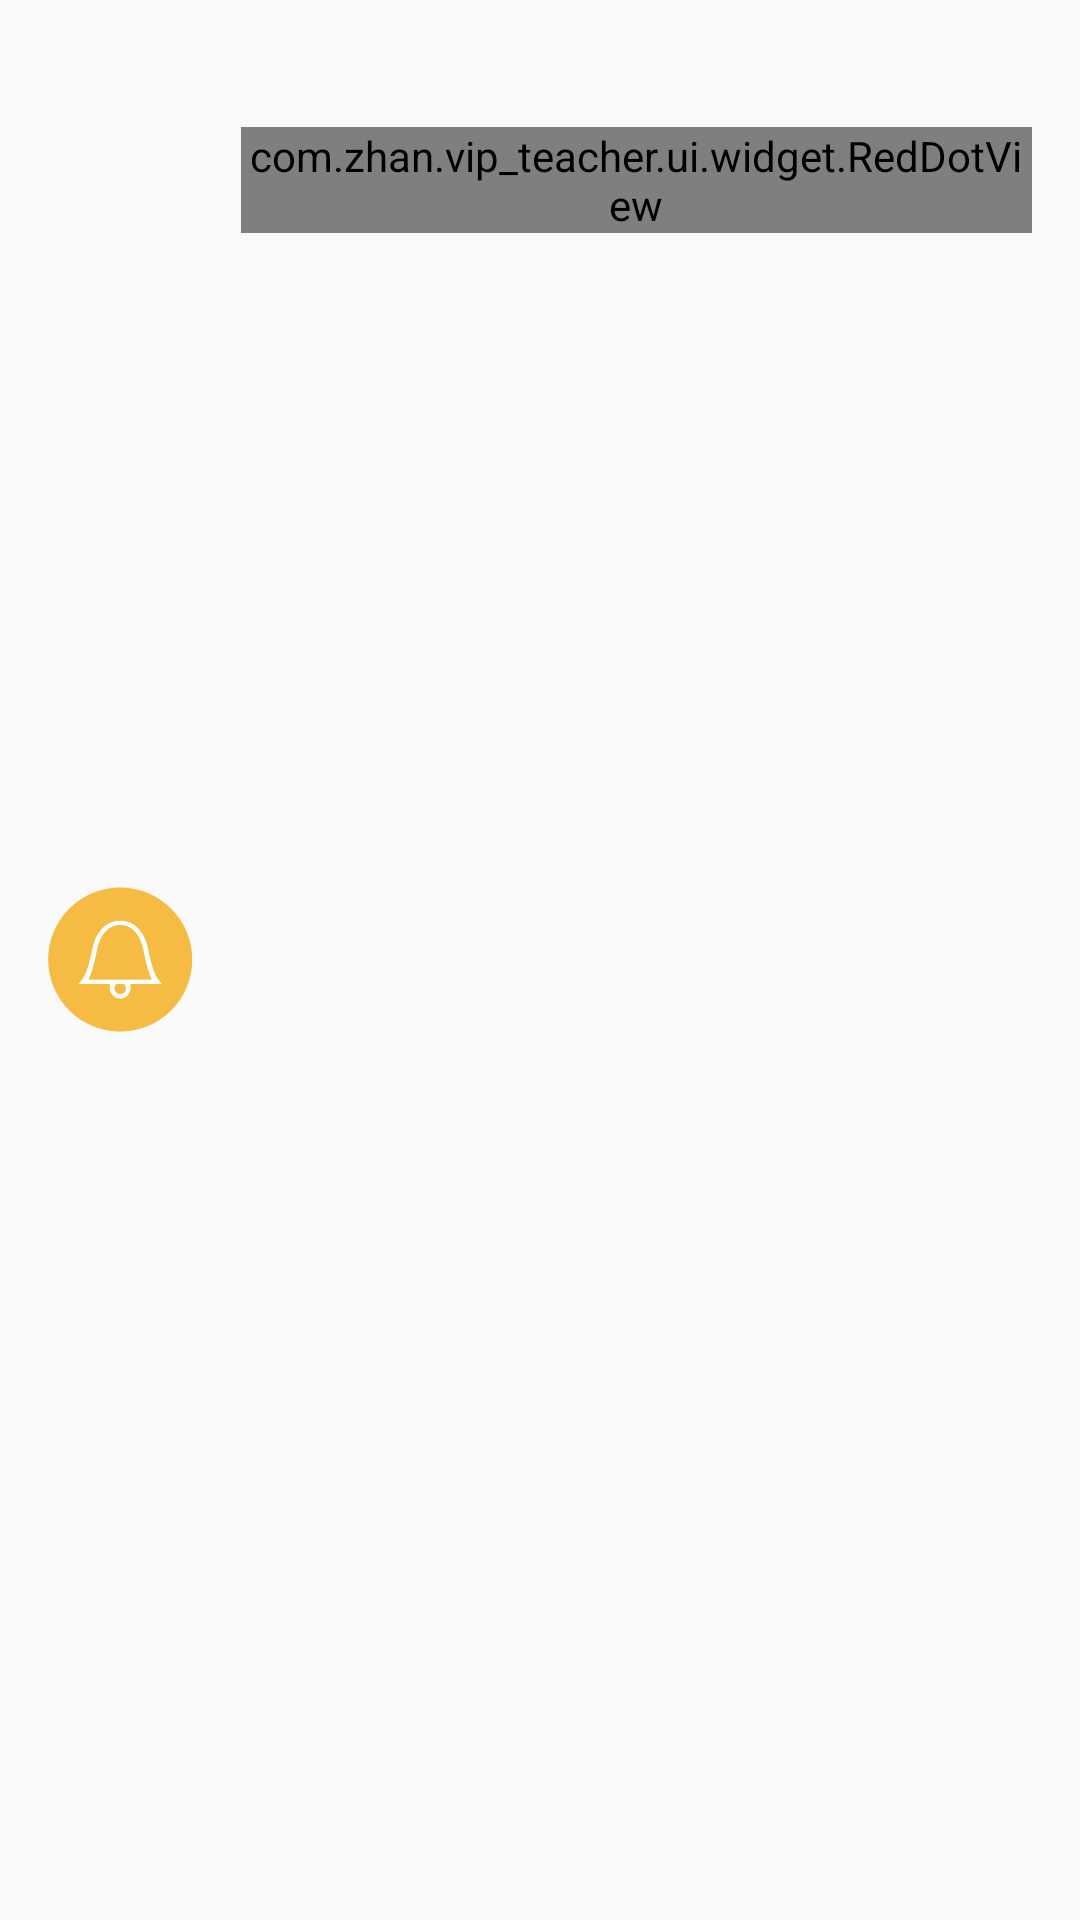

Where to tap for icons on this 1080px x 1920px app screen, as point (x, y):
msg remind: point (120, 959)
